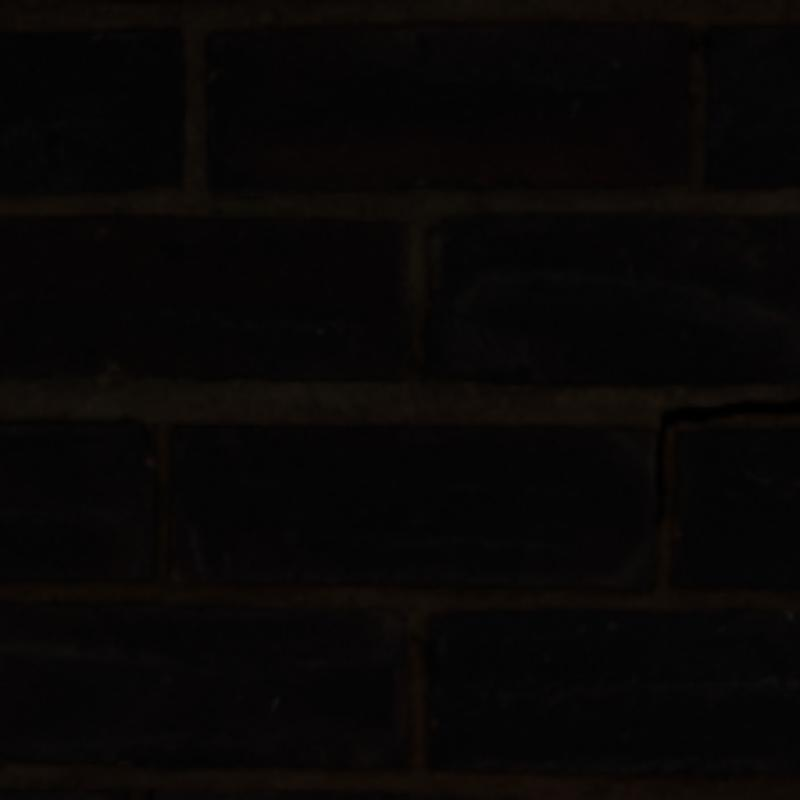pothole: (654, 400, 796, 525)
